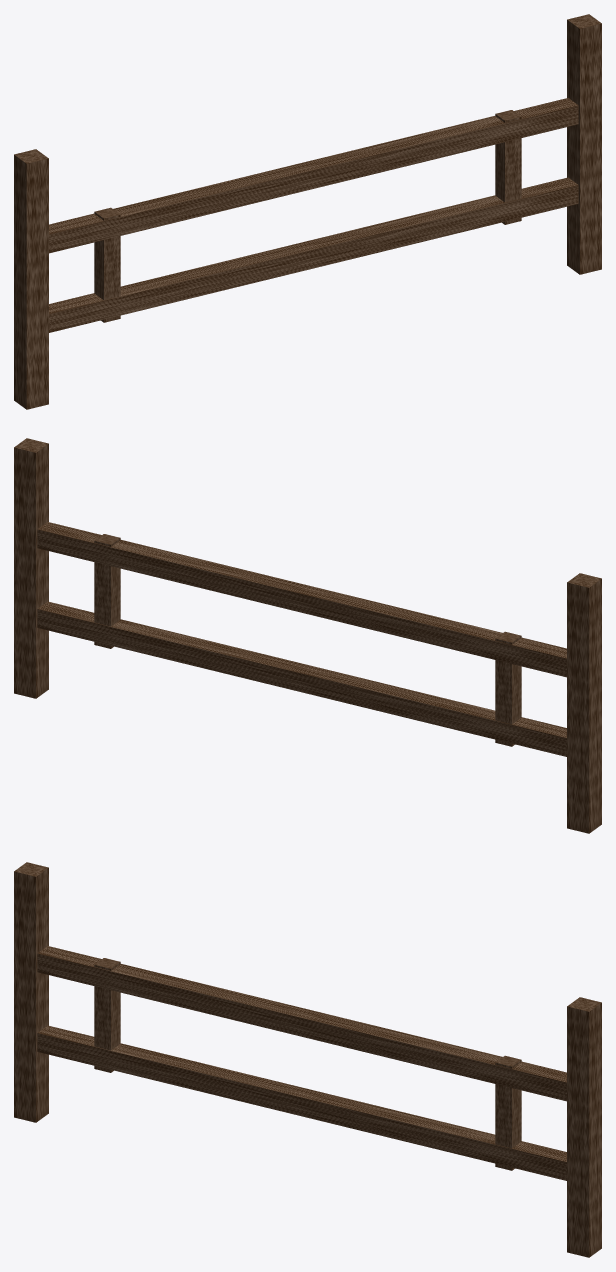
The model's file is fence.obj.
3 renders of one model, top to bottom at view 1: azimuth 30°, elevation 25°; view 2: azimuth 150°, elevation 25°; view 3: azimuth 330°, elevation 25°, orthographic.
Visible parts, largest first — view 1: fence; view 2: fence; view 3: fence.
Part boxes in pixels (x1=…): fence: x1=14, y1=14, x2=601, y2=409; fence: x1=14, y1=438, x2=601, y2=833; fence: x1=14, y1=862, x2=601, y2=1257.
Bounding box in the file's own units: 4.16 × 1.7 × 0.16.
Materials: 1 (1 with a texture image).
